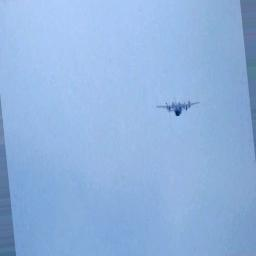Airplane: (155, 100, 199, 117)
